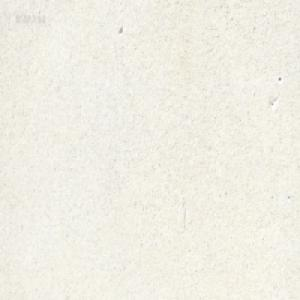Wrench: (175, 0, 181, 5)
